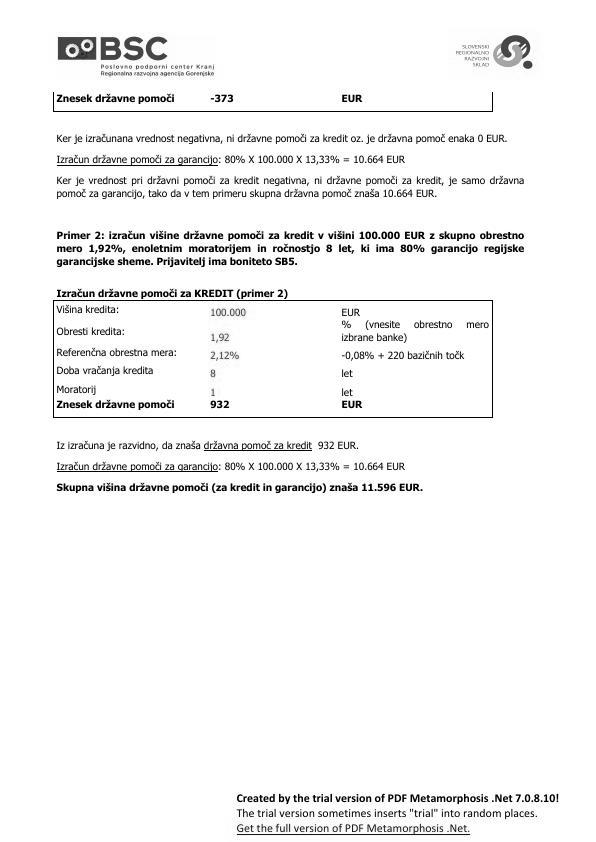table: (53, 301, 493, 417), (50, 87, 499, 115)
text: (53, 131, 527, 204), (55, 439, 427, 496), (54, 229, 532, 269), (56, 288, 288, 299)
